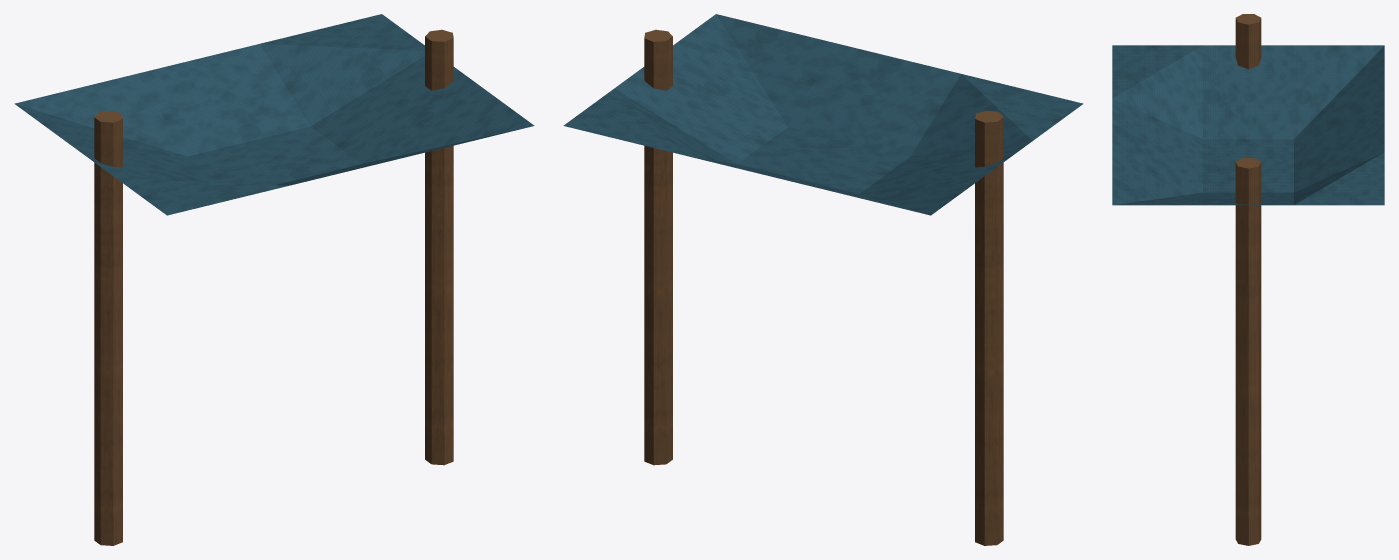
Rendered from en-020_rain_catcher_placement_set__cloth.obj.
3 views of the same model, side by side, from view 1: azimuth 30°, elevation 25°; view 2: azimuth 150°, elevation 25°; view 3: azimuth 270°, elevation 25° (orthographic). The views are drawn at different scales.
Parts seen in each view (by area): view 1: en-020_rain_catcher_placement_set__cloth; view 2: en-020_rain_catcher_placement_set__cloth; view 3: en-020_rain_catcher_placement_set__cloth.
Boxes of the visible parts, x1,y1,x2,y2 form: en-020_rain_catcher_placement_set__cloth: [14, 14, 534, 545]; en-020_rain_catcher_placement_set__cloth: [563, 14, 1083, 545]; en-020_rain_catcher_placement_set__cloth: [1112, 14, 1384, 545].
Size of the model in its own units: 1 by 1.1 by 0.72.
2 materials, 2 textured.
